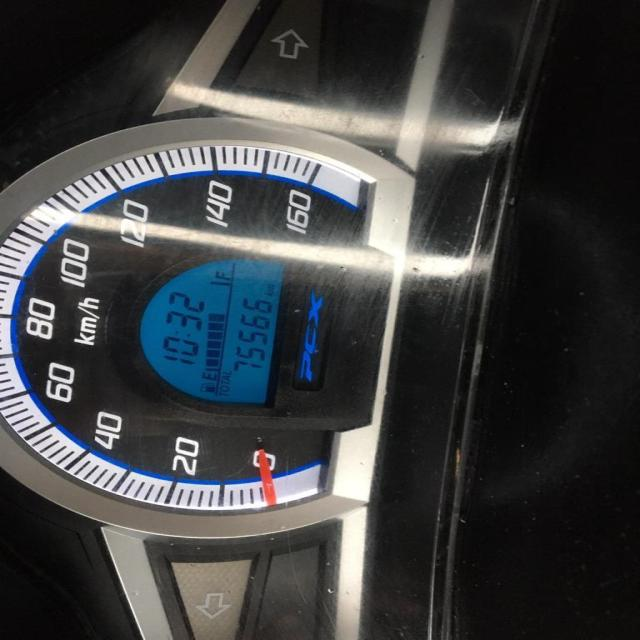odometer: (130, 252, 292, 413)
